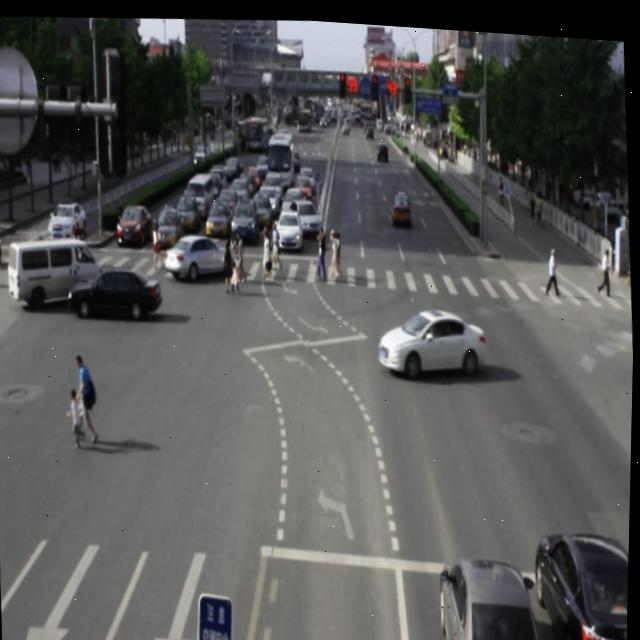car: (525, 509, 632, 640), (431, 539, 541, 640), (376, 293, 489, 377), (67, 257, 165, 321), (164, 228, 239, 280)
